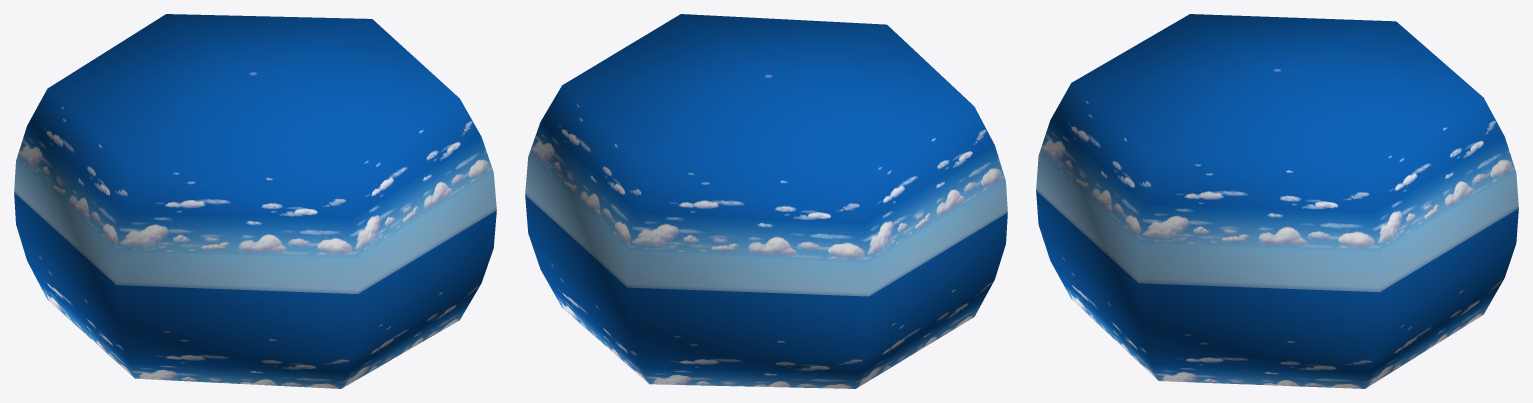
The model's file is figure sky.obj.
3 views of the same model, side by side, from view 1: azimuth 30°, elevation 25°; view 2: azimuth 150°, elevation 25°; view 3: azimuth 270°, elevation 25° (orthographic).
Parts seen in each view (by area): view 1: cross_course_V; view 2: cross_course_V; view 3: cross_course_V.
Boxes of the visible parts, x1=… form: cross_course_V: x1=14, y1=14, x2=496, y2=388; cross_course_V: x1=525, y1=14, x2=1007, y2=388; cross_course_V: x1=1036, y1=14, x2=1518, y2=388.
Size of the model in its own units: 1281 by 827 by 1408.
